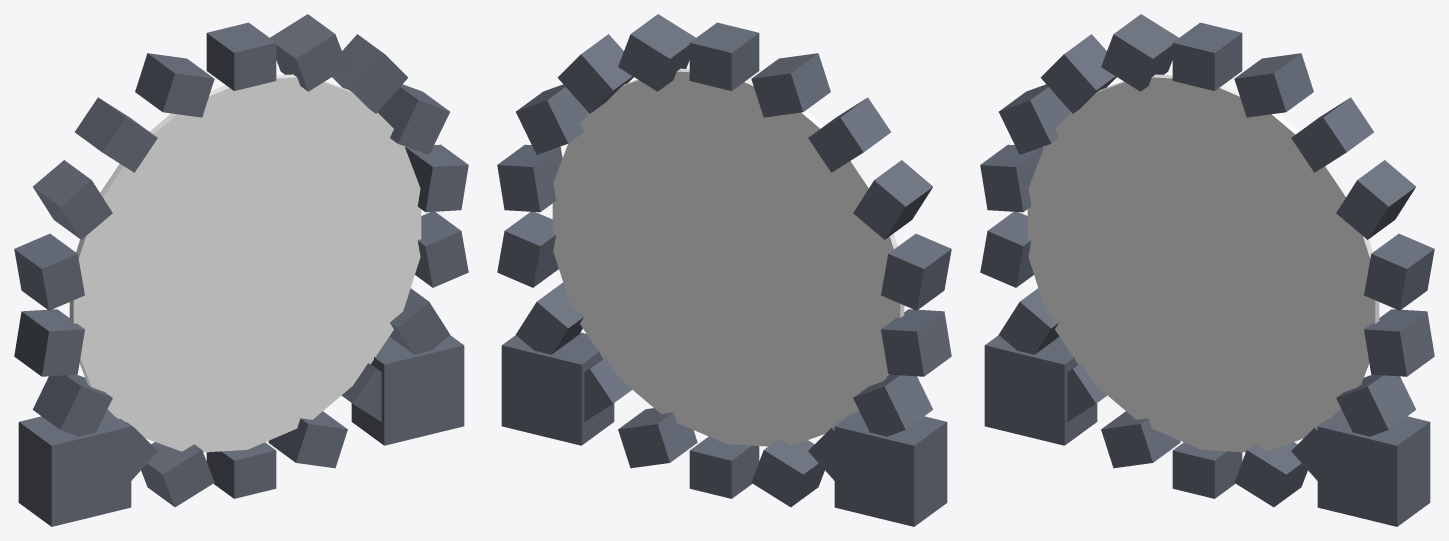
The model's file is portal.glb.
The picture shows the model from 3 angles, left to right: view 1: azimuth 30°, elevation 25°; view 2: azimuth 150°, elevation 25°; view 3: azimuth 330°, elevation 25°; orthographic projection.
Visible parts, largest first — view 1: portal; view 2: portal; view 3: portal.
Boxes of the visible parts, <box> form: portal: <box>14,14,468,526</box>; portal: <box>497,14,951,526</box>; portal: <box>980,14,1434,526</box>.
Size of the model in its own units: 3.75 by 3.74 by 0.5.
